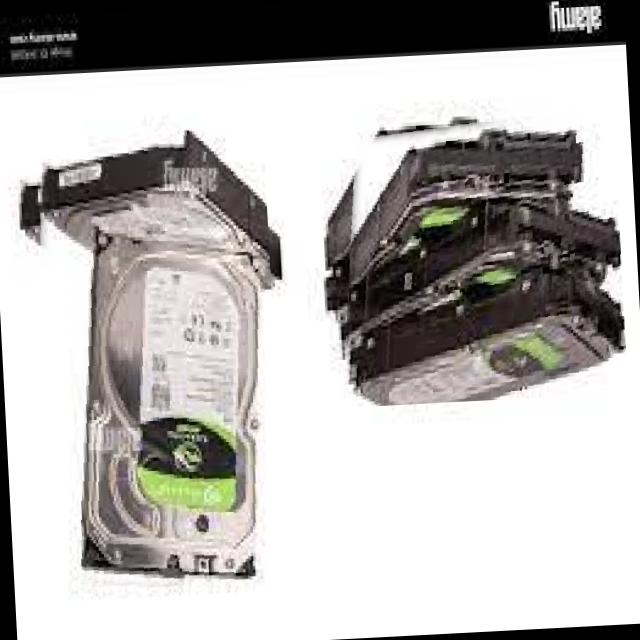Hazard: (38, 130, 272, 587), (346, 122, 624, 405)
